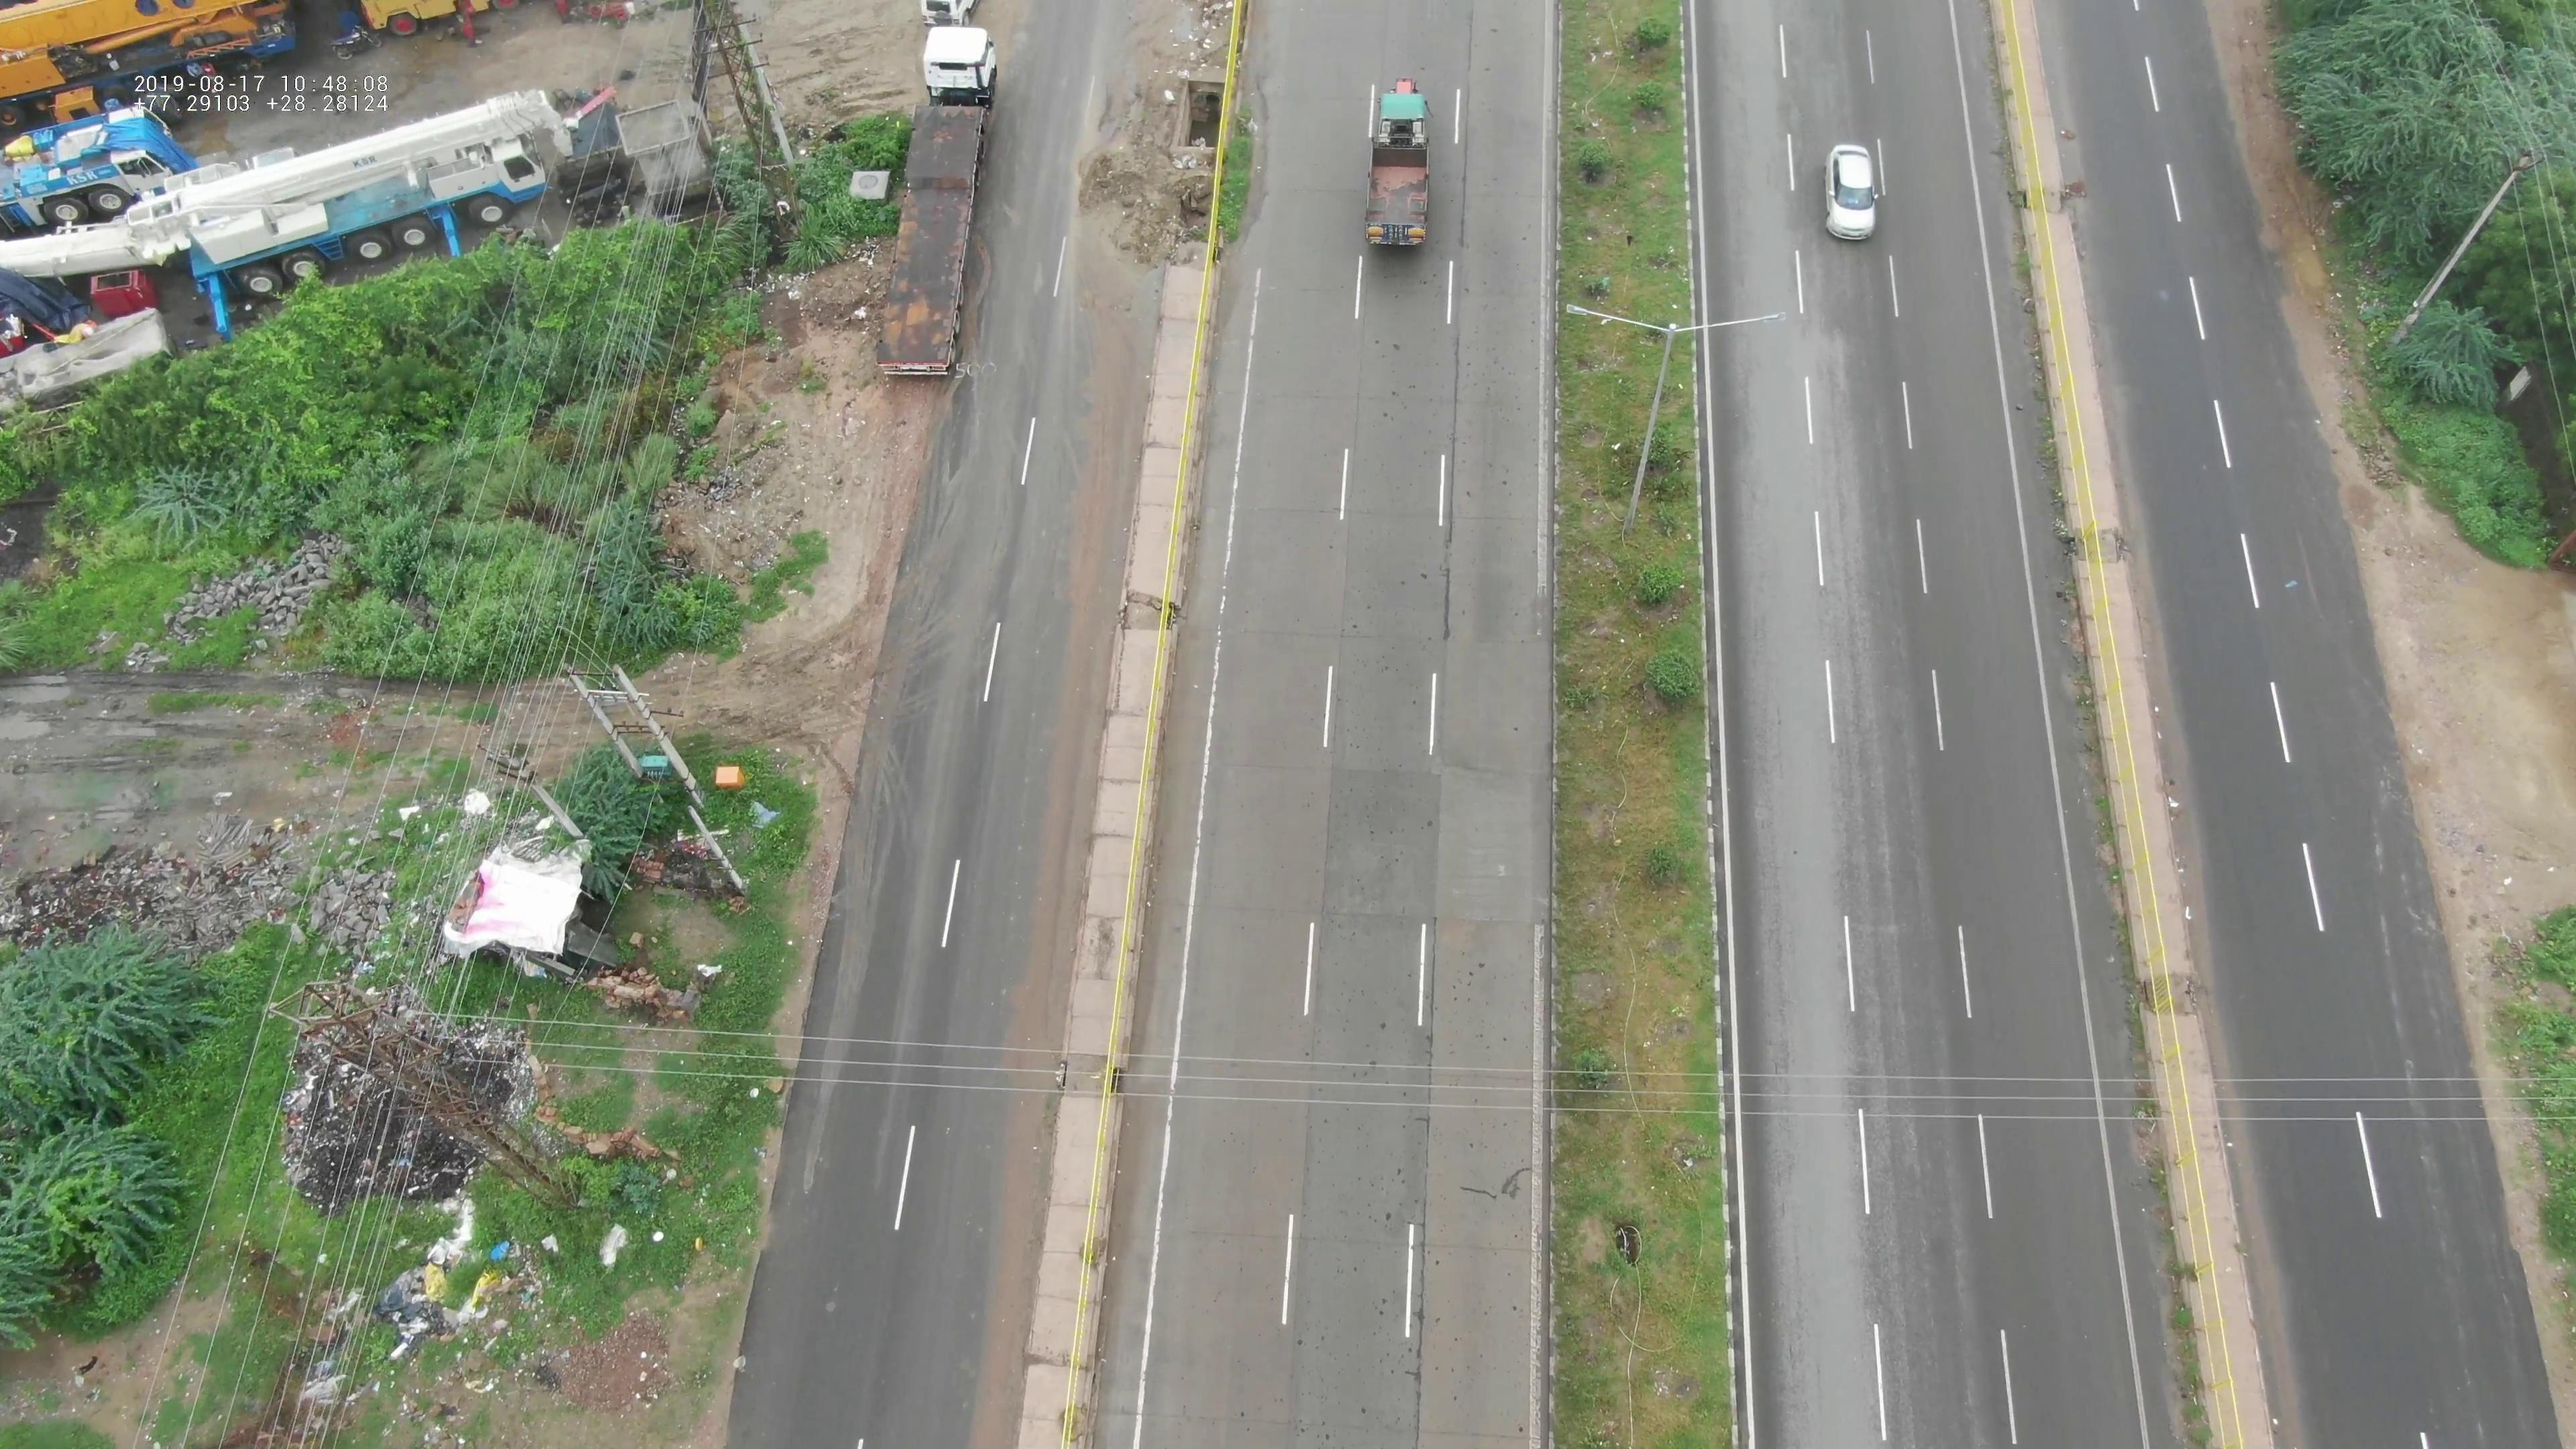Muddy_road: (1081, 74, 1182, 249)
